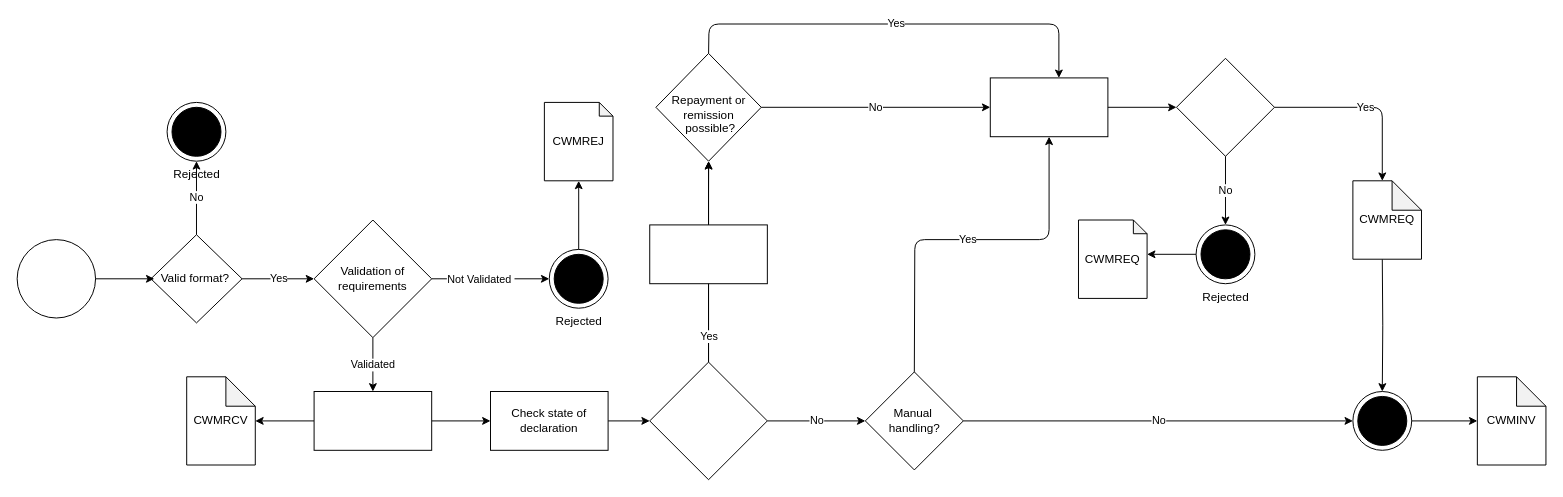
Some shapes in this 1563 by 497 pixel diagram are drawn without their labels. Here are the shapes that lost their labels. From the top down, the centre of each, then its label:
pixel 1048 107: Handle invalidation request
pixel 1225 106: Request accepted?
pixel 708 254: Check option for repayment
pixel 56 278: Start / Registered
pixel 372 420: Receival
pixel 708 420: Goods released?
pixel 1382 420: Invalidated
